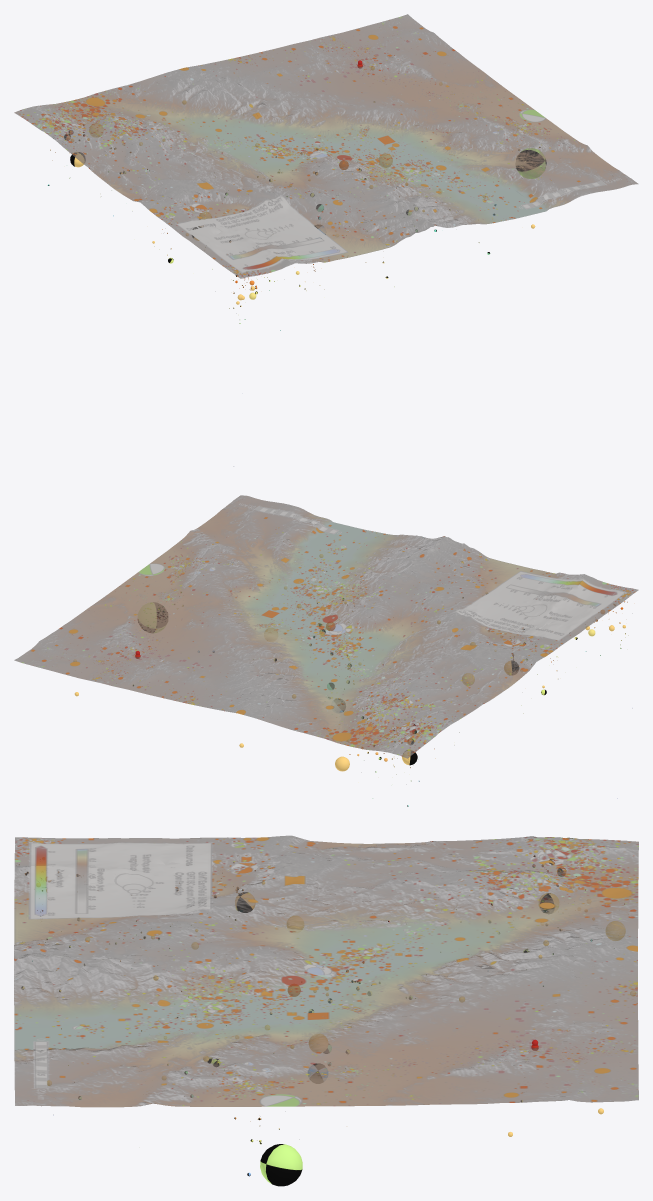
File: earthquakes_in_death_valley.glb
The picture shows the model from 3 angles, top to bottom: view 1: azimuth 30°, elevation 25°; view 2: azimuth 150°, elevation 25°; view 3: azimuth 270°, elevation 25°; orthographic projection. The views are drawn at different scales.
Visible parts, largest first — view 1: frame_0; view 2: frame_0; view 3: frame_0.
Part boxes in pixels (x1,y1,x2,y2): frame_0: (14, 14, 637, 330); frame_0: (14, 495, 638, 806); frame_0: (14, 835, 638, 1186).
Bounding box in the file's own units: 1.02 × 0.5022 × 1.01.
5 materials, 3 textured.
